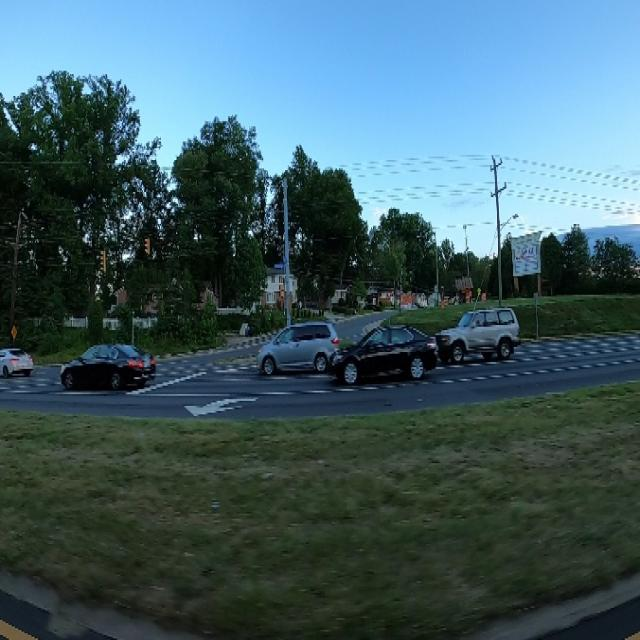car: (330, 319, 444, 393), (440, 297, 528, 371), (55, 332, 157, 387), (248, 320, 341, 376), (0, 335, 36, 379)
